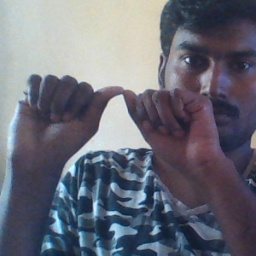A: (43, 71, 199, 164)
